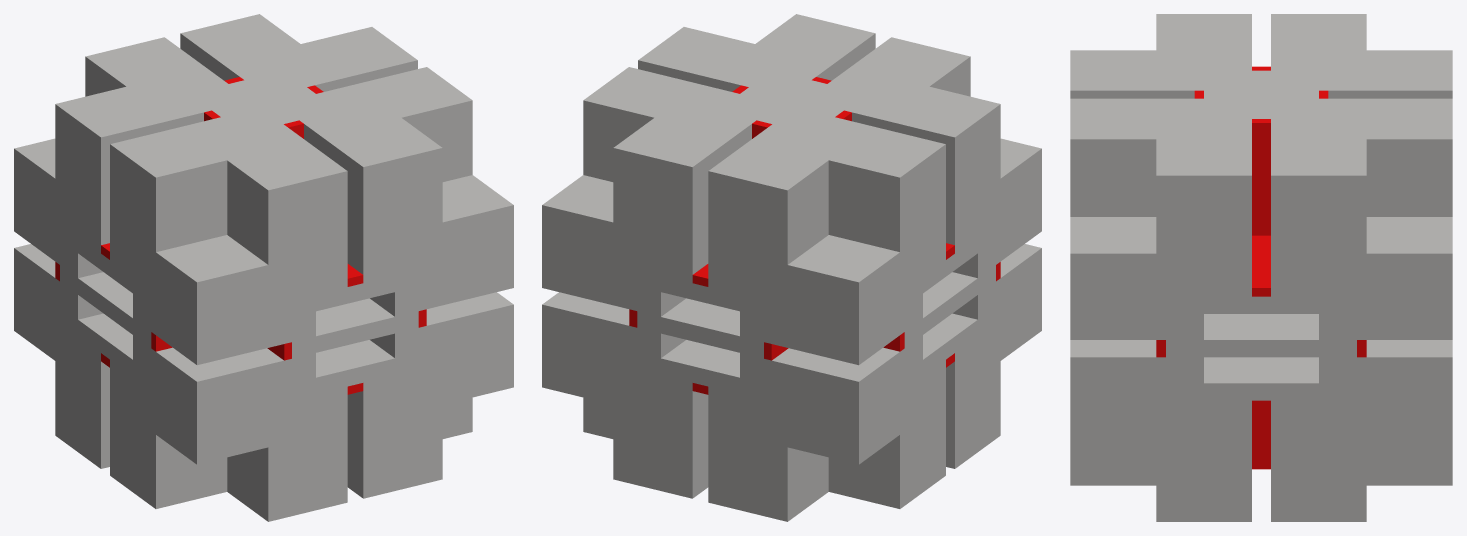
Rendered from prj20171217b.obj.
The picture shows the model from 3 angles, left to right: view 1: azimuth 30°, elevation 25°; view 2: azimuth 150°, elevation 25°; view 3: azimuth 270°, elevation 25°; orthographic projection. The views are drawn at different scales.
Visible parts, largest first — view 1: prj20171217b; view 2: prj20171217b; view 3: prj20171217b.
Boxes of the visible parts, bbox=[...] form: prj20171217b: bbox=[14, 14, 513, 521]; prj20171217b: bbox=[542, 14, 1041, 521]; prj20171217b: bbox=[1070, 14, 1452, 521].
Size of the model in its own units: 40 by 40 by 40.
1 material, 1 textured.
